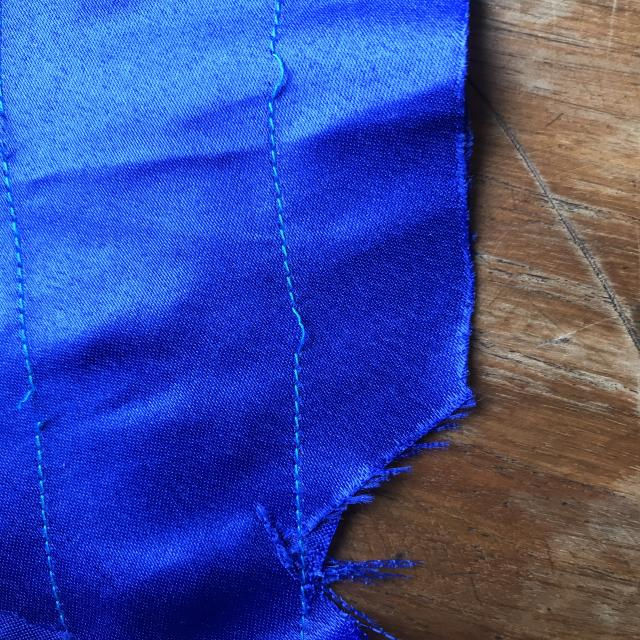broken: (7, 370, 69, 458)
good: (244, 148, 318, 249)
skip: (255, 286, 338, 371), (237, 28, 300, 112)
